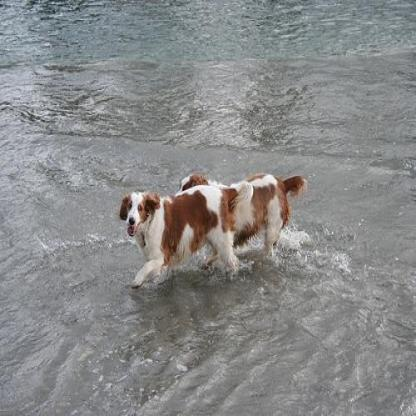Welsh_springer_spaniel: (118, 181, 251, 284), (173, 172, 305, 262)
